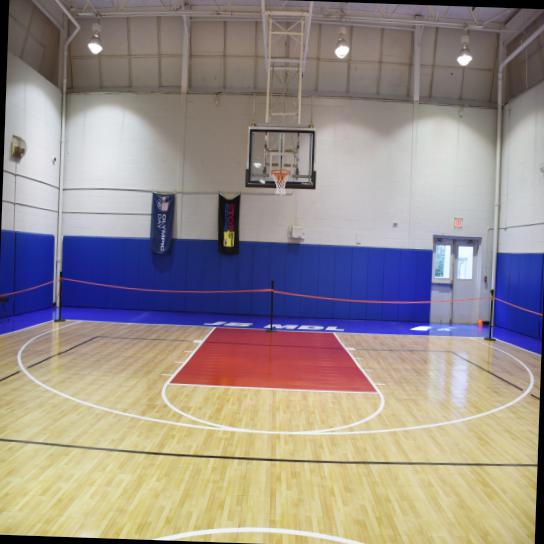basketball-hoop: (270, 168, 291, 196)
